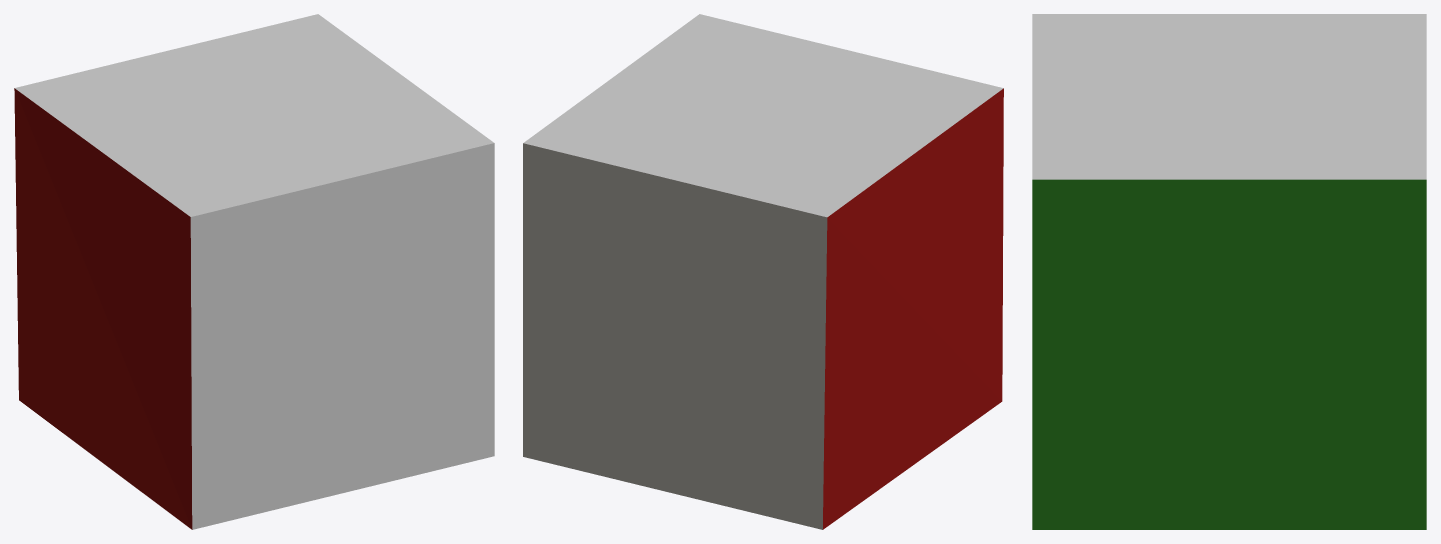
The model's file is CornellBox-Original.obj.
3 renders of one model, left to right at view 1: azimuth 30°, elevation 25°; view 2: azimuth 150°, elevation 25°; view 3: azimuth 270°, elevation 25°, orthographic. The views are drawn at different scales.
Parts seen in each view (by area): view 1: leftWall, ceiling; view 2: backWall, leftWall, ceiling; view 3: rightWall, ceiling.
Part boxes in pixels (<box>): leftWall: <box>14,88,494,529</box>; ceiling: <box>15,14,493,216</box>; backWall: <box>523,143,827,529</box>; leftWall: <box>823,88,1003,529</box>; ceiling: <box>523,14,1003,217</box>; rightWall: <box>1032,179,1426,529</box>; ceiling: <box>1032,14,1426,179</box>.
Size of the model in its own units: 2.02 by 1.99 by 2.03.
